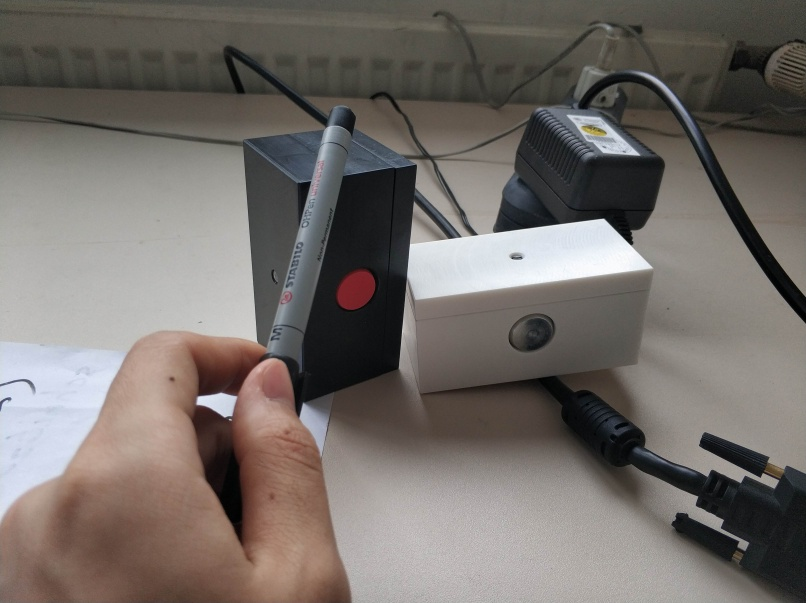black+black+red: (239, 124, 421, 407)
white+white+silver: (401, 215, 657, 396)
